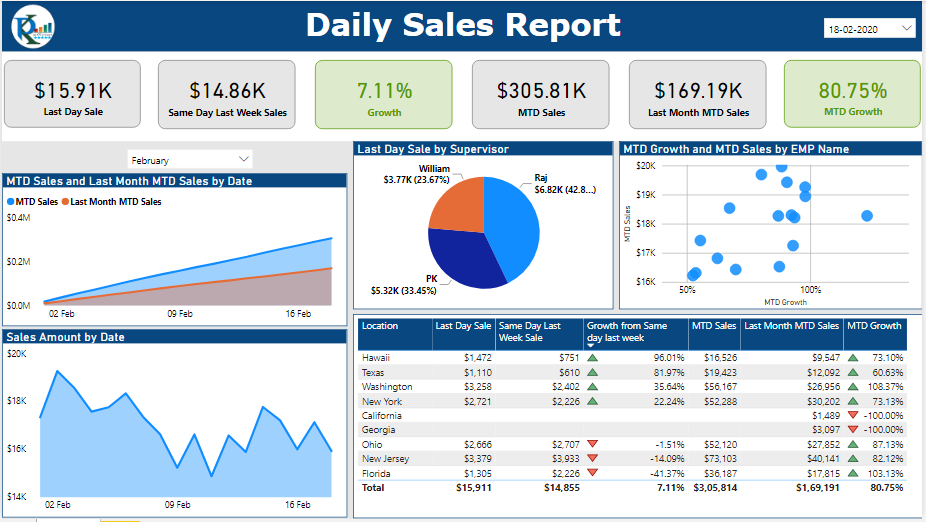

The page's visual inventory and layout, read from the dashboard file:
{"tool":"powerbi","page":{"name":"DSR","canvas":[1280,720],"ordinal":0},"visuals":[{"type":"card","fields":{"Values":["DSR.Last Month MTD Sales"]},"box":[871.1,81.4,190.8,95.8],"z":0,"group":"g1"},{"type":"basicShape","box":[0,70.6,1280,123.9],"z":0},{"type":"basicShape","box":[0,0,1280.4,70.2],"z":1000},{"type":"card","fields":{"Values":["DSR.Last Day Sale"]},"box":[3,81.4,189.8,94.1],"z":1000,"group":"g1"},{"type":"card","fields":{"Values":["DSR.Same Day Last Week"]},"box":[217.2,81.4,190.8,95.8],"z":2000,"group":"g1"},{"type":"textbox","box":[391.1,0,499.7,83],"z":2000},{"type":"card","fields":{"Values":["DSR.MTD Sales"]},"box":[653.2,81.4,190.8,95.8],"z":3000,"group":"g1"},{"type":"slicer","fields":{"Values":["Calendar.Date"]},"box":[1132.9,14.5,147.1,42],"z":3000},{"type":"card","fields":{"Values":["DSR.Growth from Same day last week"]},"box":[435.2,81.4,190.8,95.8],"z":4000,"group":"g1"},{"type":"tableEx","fields":{"Values":["DSR.Location","DSR.Last Day Sale","DSR.Same Day Last Week","DSR.Growth from Same day last week","DSR.MTD Sales","DSR.Last Month MTD Sales","DSR.MTD Growth"]},"box":[487.8,434.5,792.2,283.9],"z":4000},{"type":"card","fields":{"Values":["DSR.MTD Growth"]},"box":[1086.9,81.4,189.8,94.1],"z":5000,"group":"g1"},{"type":"areaChart","fields":{"Category":["Calendar.Date"],"Y":["DSR.MTD Sales","DSR.Last Month MTD Sales"]},"box":[0,238.4,480,213.3],"z":5000},{"type":"slicer","fields":{"Values":["Calendar.Month"]},"box":[164.7,196.1,194.5,47.1],"z":6000},{"type":"pieChart","fields":{"Category":["DSR.Supervisor"],"Y":["DSR.Last Day Sale"]},"box":[487.8,194.5,362.4,233.7],"z":7000},{"type":"scatterChart","fields":{"Category":["DSR.EMP Name"],"X":["DSR.MTD Growth"],"Y":["DSR.MTD Sales"]},"box":[858,194.5,422,233.7],"z":8000},{"type":"group","id":"g1","title":"Group 1","box":[3,81.4,1273.7,95.8],"z":9000},{"type":"image","box":[0,0,86.3,70.6],"z":9001},{"type":"areaChart","fields":{"Category":["Calendar.Date"],"Y":["DSR.Sales Amount"]},"box":[0,456.5,480,262],"z":9002}]}

Visuals, with their boxes in screenshot pixels (x1, y1, x2, y2), scaled from the page's 1280x720 canvas onto the 926x522 screenshot:
card - DSR.Last Month MTD Sales: locate(630, 59, 768, 128)
basicShape: locate(0, 51, 925, 141)
basicShape: locate(0, 0, 925, 51)
card - DSR.Last Day Sale: locate(2, 59, 139, 127)
card - DSR.Same Day Last Week: locate(157, 59, 295, 128)
textbox: locate(283, 0, 644, 60)
card - DSR.MTD Sales: locate(473, 59, 611, 128)
slicer - Calendar.Date: locate(820, 11, 925, 41)
card - DSR.Growth from Same day last week: locate(315, 59, 453, 128)
tableEx - DSR.Location x DSR.Last Day Sale: locate(353, 315, 925, 521)
card - DSR.MTD Growth: locate(786, 59, 924, 127)
areaChart - Calendar.Date x DSR.MTD Sales: locate(0, 173, 347, 327)
slicer - Calendar.Month: locate(119, 142, 260, 176)
pieChart - DSR.Supervisor x DSR.Last Day Sale: locate(353, 141, 615, 310)
scatterChart - DSR.EMP Name x DSR.MTD Growth: locate(621, 141, 925, 310)
"Group 1" group: locate(2, 59, 924, 128)
image: locate(0, 0, 62, 51)
areaChart - Calendar.Date x DSR.Sales Amount: locate(0, 331, 347, 521)
